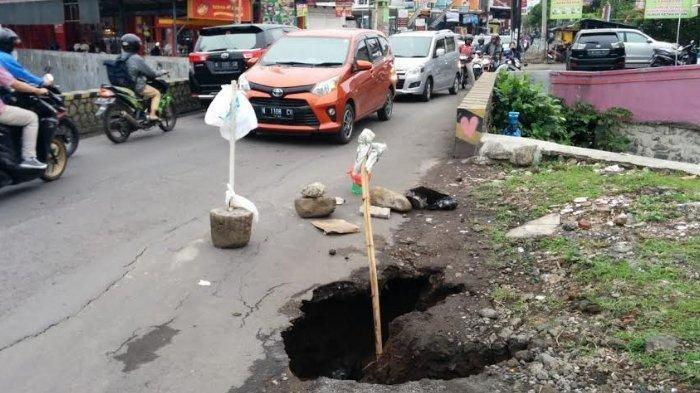Pothole: (247, 261, 669, 391)
